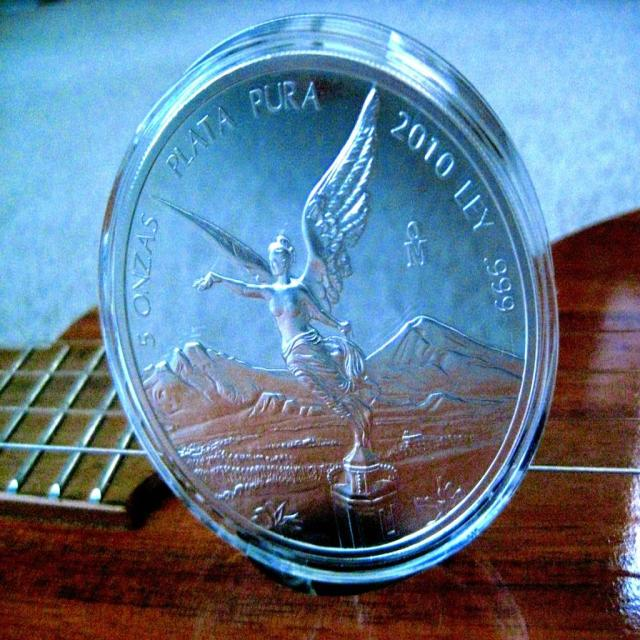Coin: (97, 7, 561, 579)
